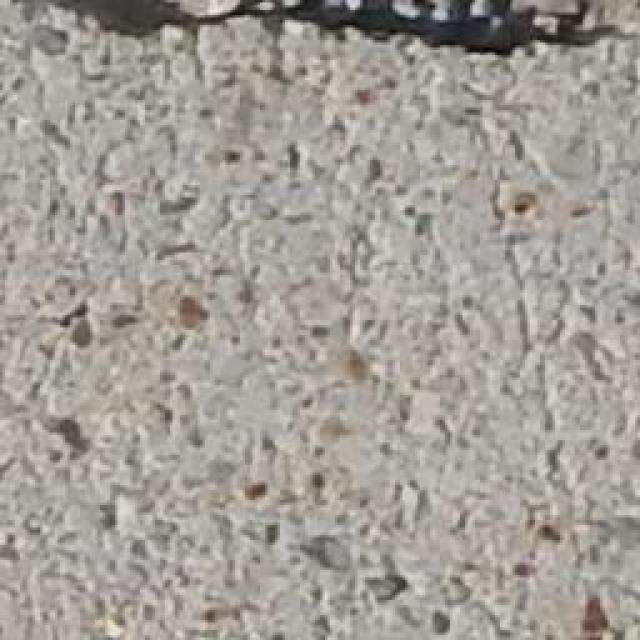concrete-crack: (37, 0, 640, 64)
